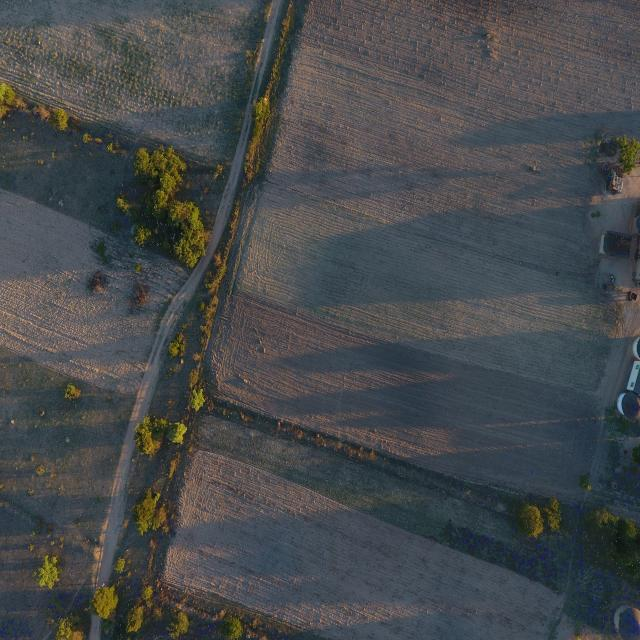boundaries: (179, 27, 304, 366)
